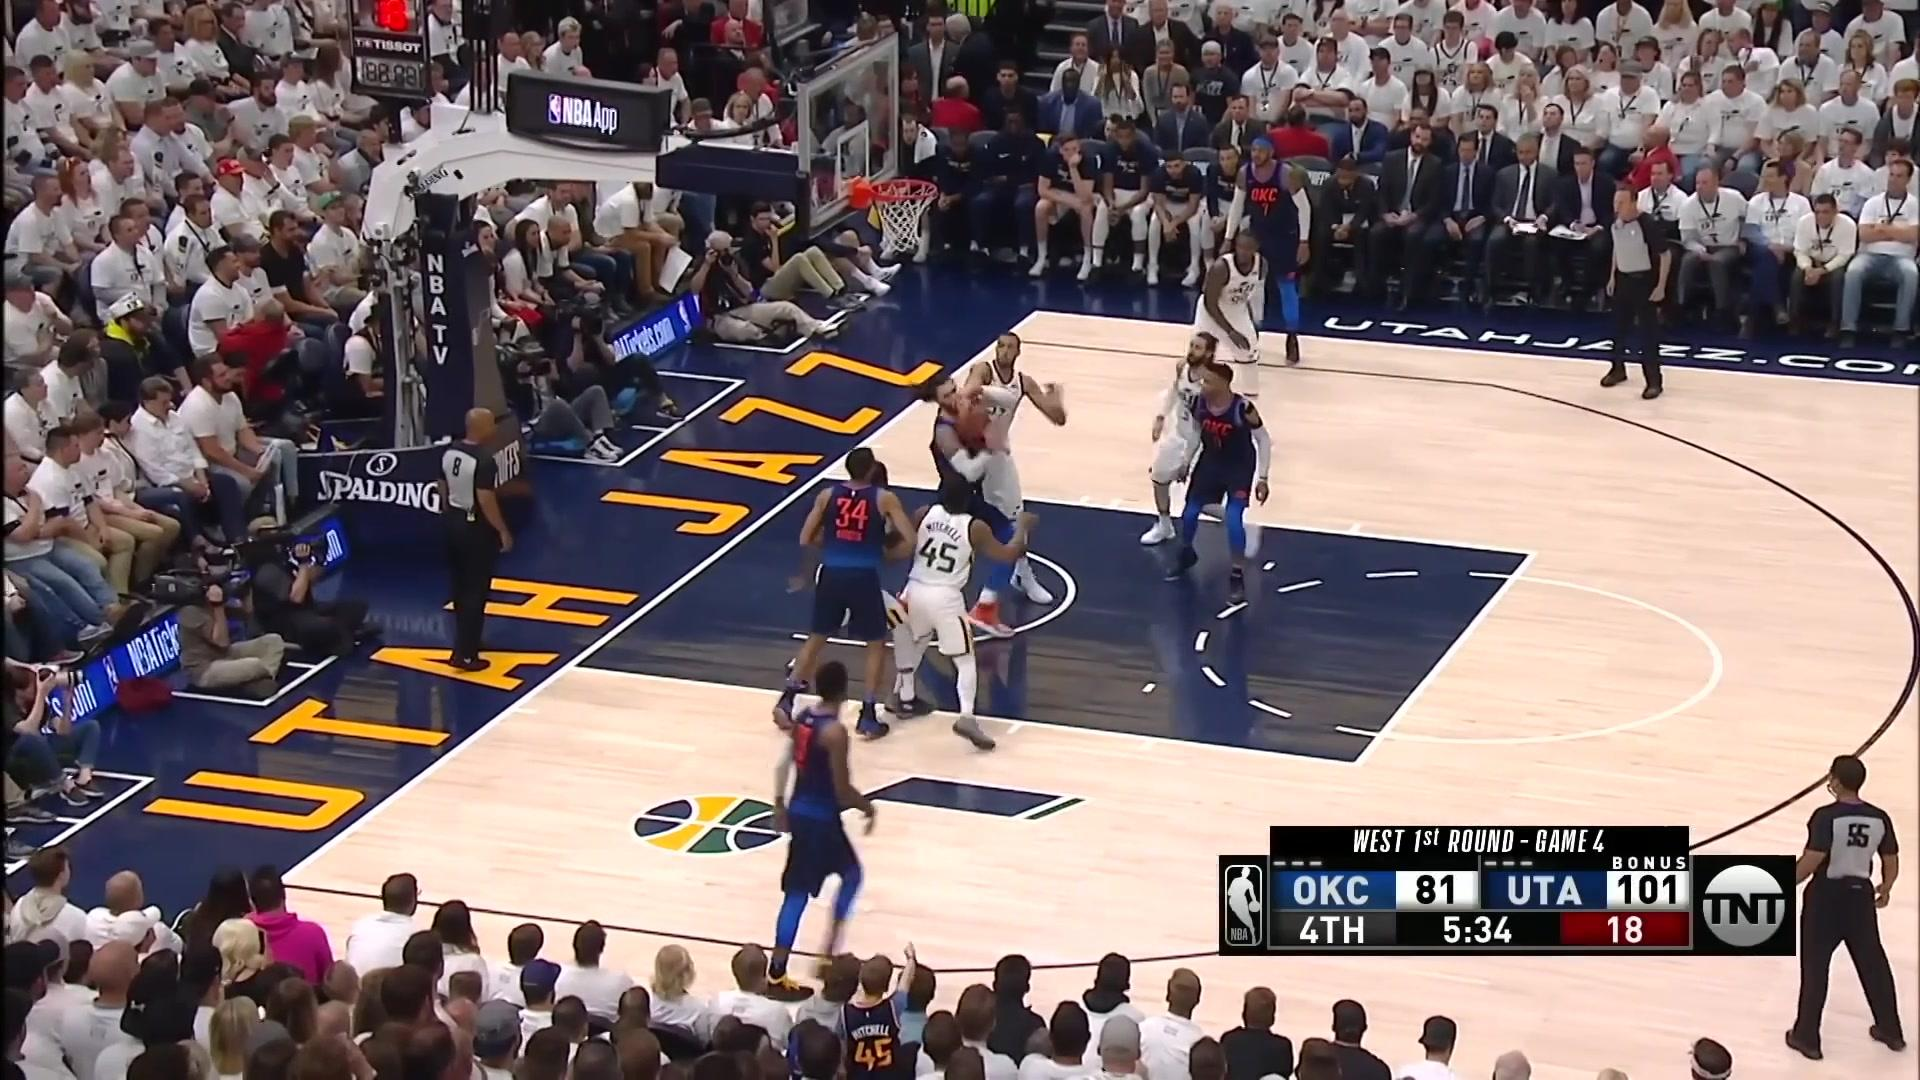foul: (889, 332, 1097, 613)
